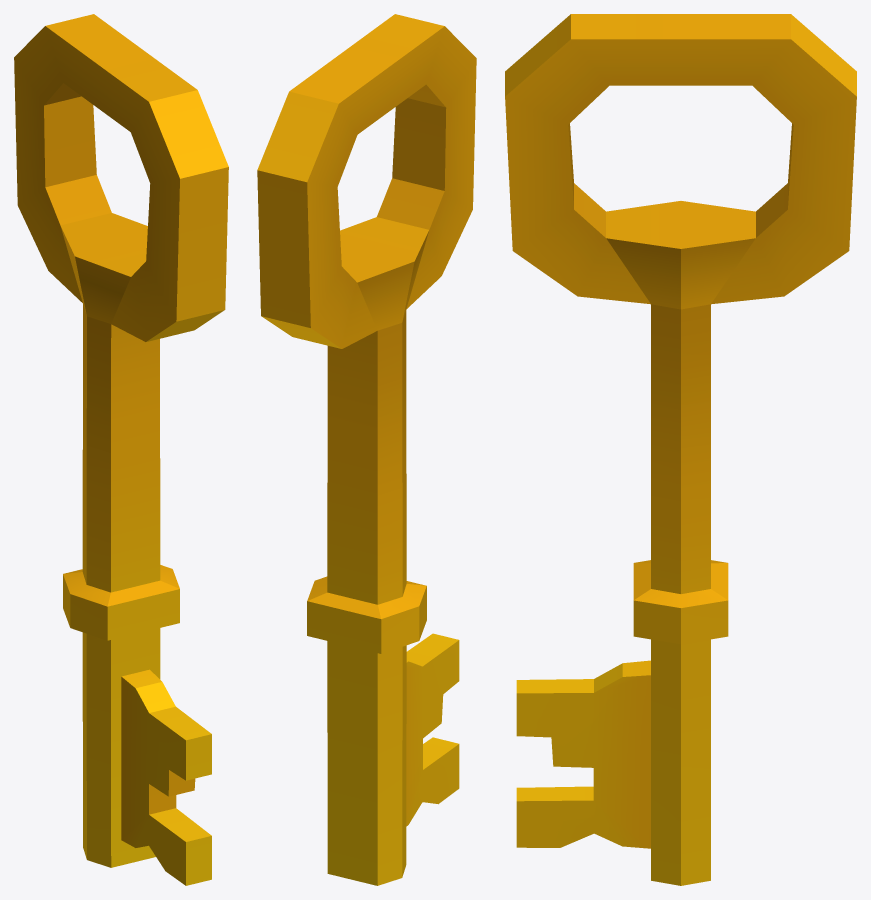
The model's file is key.fbx.
3 views of the same model, side by side, from view 1: azimuth 30°, elevation 25°; view 2: azimuth 150°, elevation 25°; view 3: azimuth 270°, elevation 25° (orthographic). The views are drawn at different scales.
Visible parts, largest first — view 1: key; view 2: key; view 3: key.
Boxes of the visible parts, x1,y1,x2,y2 form: key: (14,14,228,885); key: (257,14,476,885); key: (505,14,856,885).
Size of the model in its own units: 0.7854 by 5.81 by 2.2.
